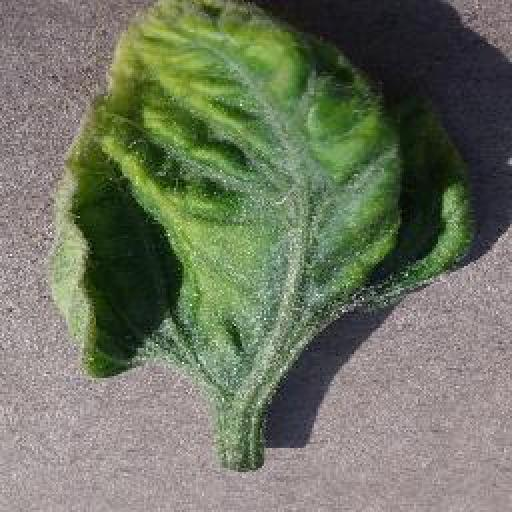disease_tomato: (48, 0, 476, 381)
